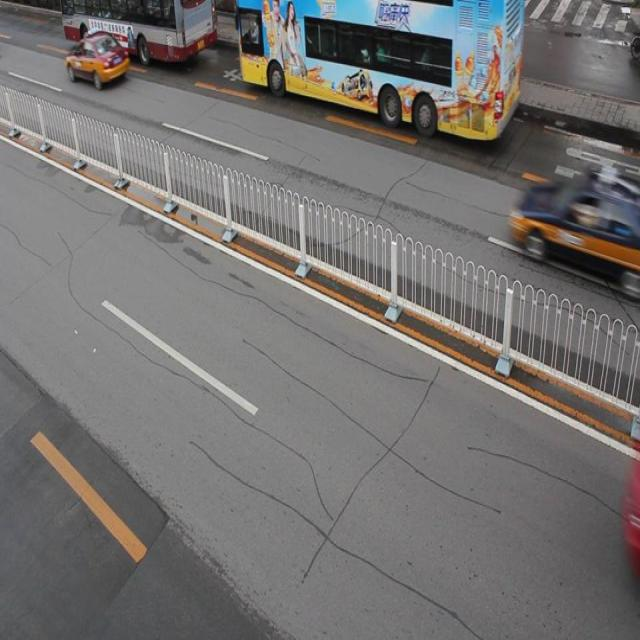car: (510, 170, 640, 276), (66, 29, 130, 88)
van: (236, 1, 524, 142), (61, 1, 217, 64)
